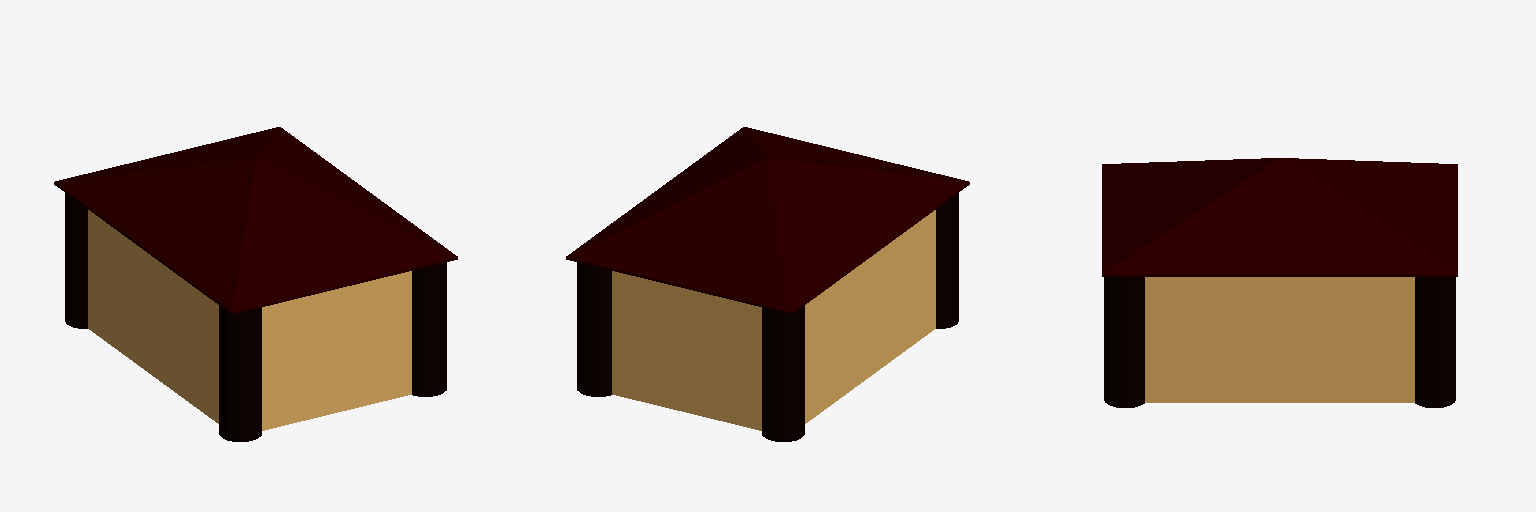
File: House.obj
3 renders of one model, left to right at view 1: azimuth 30°, elevation 25°; view 2: azimuth 150°, elevation 25°; view 3: azimuth 270°, elevation 25°, orthographic.
Parts seen in each view (by area): view 1: Cube.001, Cube, Cylinder; view 2: Cube.001, Cube, Cylinder; view 3: Cube.001, Cube, Cylinder.
Part boxes in pixels (bbox=[...]): Cube.001: bbox=[54, 127, 457, 314]; Cube: bbox=[88, 210, 411, 430]; Cylinder: bbox=[65, 193, 446, 441]; Cube.001: bbox=[566, 127, 969, 314]; Cube: bbox=[612, 210, 935, 430]; Cylinder: bbox=[577, 193, 958, 441]; Cube.001: bbox=[1102, 158, 1457, 276]; Cube: bbox=[1145, 277, 1414, 402]; Cylinder: bbox=[1104, 277, 1455, 407].
Size of the model in its own units: 3.6 by 2.98 by 4.91.